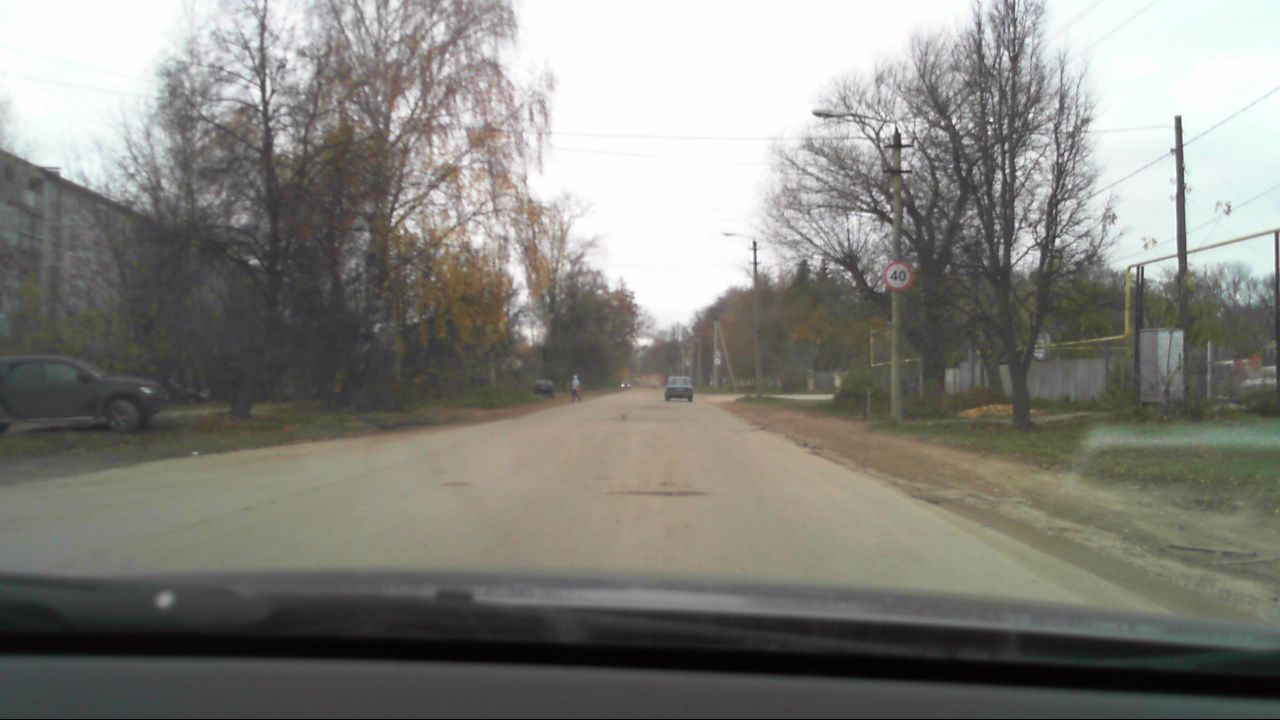speed_warning_40: (882, 260, 913, 290)
